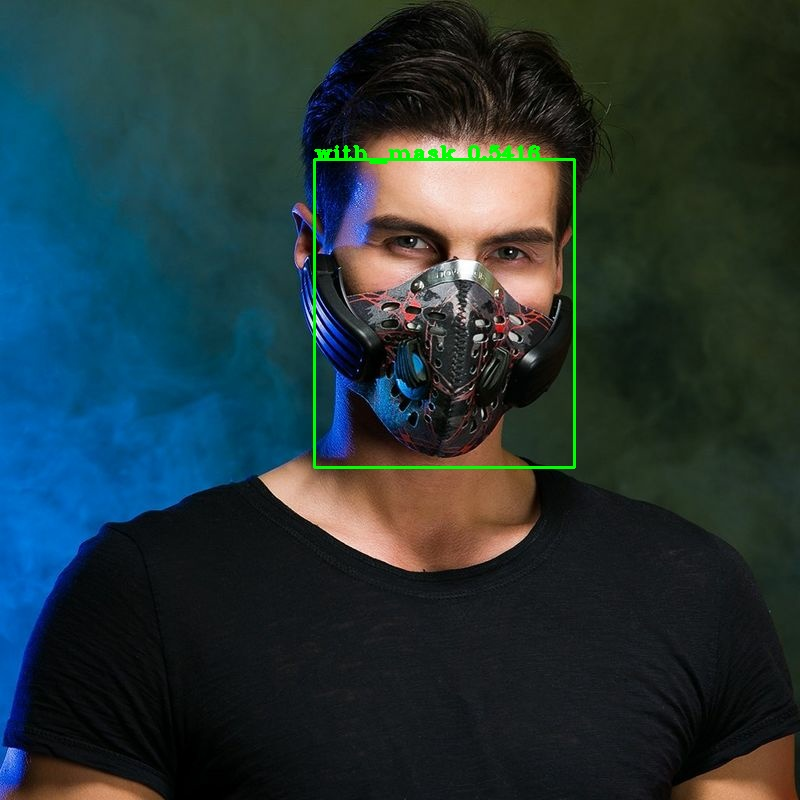with_mask: (288, 120, 586, 474)
